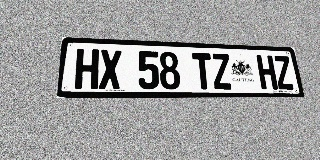5: (138, 51, 160, 89)
8: (159, 52, 181, 89)
H: (74, 49, 99, 89), (256, 55, 278, 89)
T: (192, 53, 214, 89)
X: (99, 49, 121, 89)
Z: (211, 53, 233, 89), (273, 56, 295, 90)
